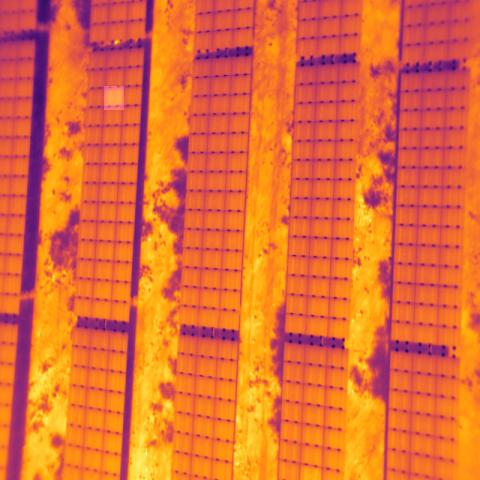fault: (104, 86, 124, 110)
